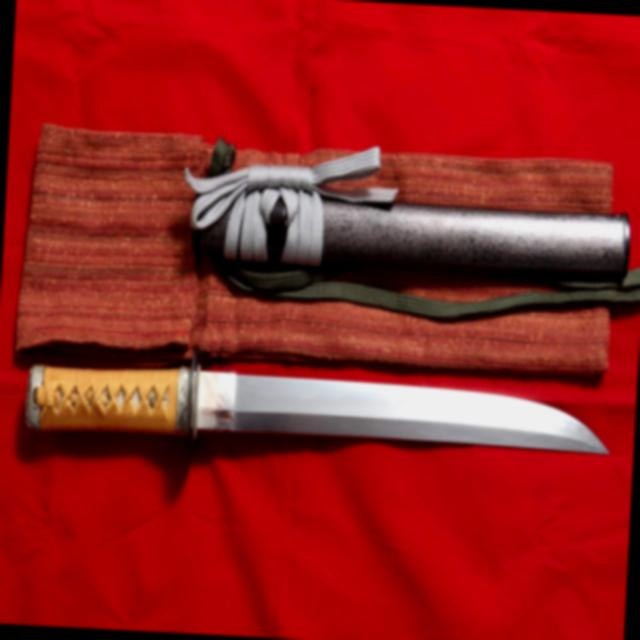short sword: (6, 351, 618, 482)
